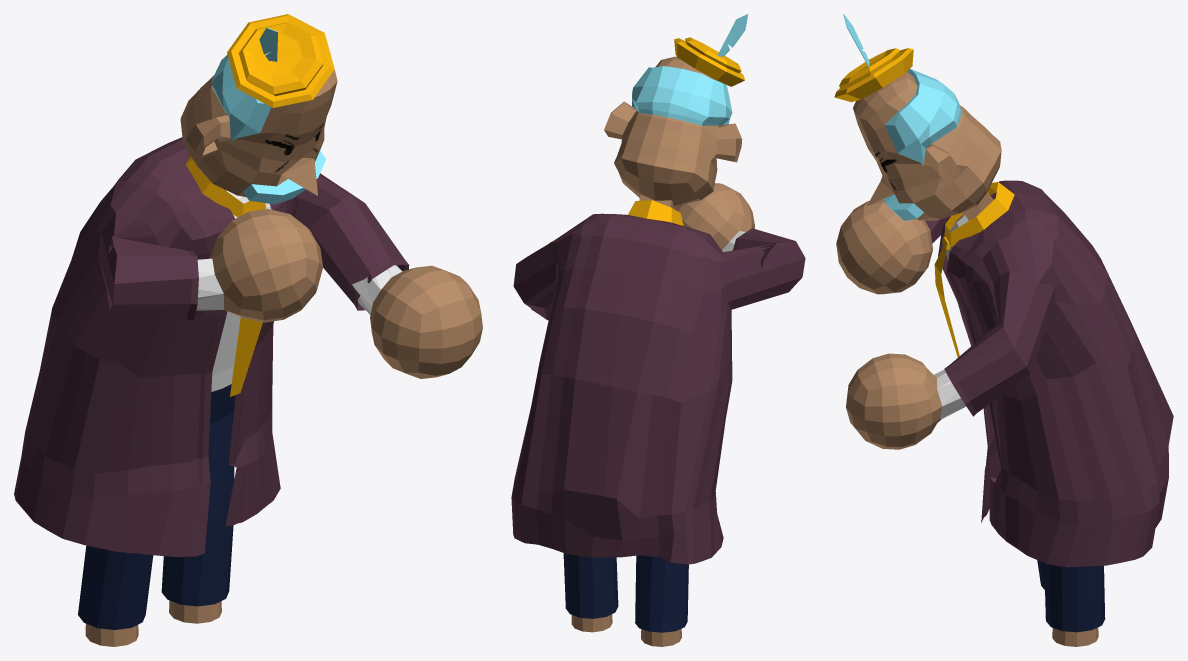
File: scribe.glb
3 views of the same model, side by side, from view 1: azimuth 30°, elevation 25°; view 2: azimuth 150°, elevation 25°; view 3: azimuth 270°, elevation 25° (orthographic). The views are drawn at different scales.
Parts seen in each view (by area): view 1: Roundcube.001; view 2: Roundcube.001; view 3: Roundcube.001.
Boxes of the visible parts, x1,y1,x2,y2 form: Roundcube.001: [14, 14, 482, 646]; Roundcube.001: [511, 14, 805, 646]; Roundcube.001: [834, 14, 1173, 646].
Bounding box in the file's own units: 1.12 × 2.13 × 1.1.
6 materials, 1 textured.
